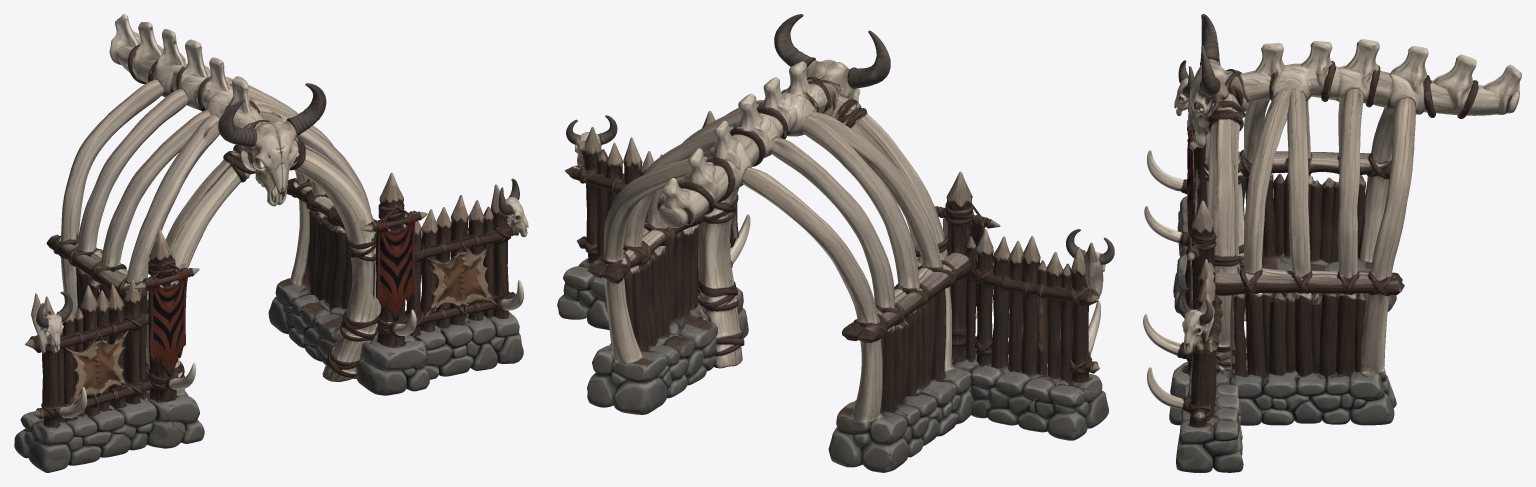
File: TrollGate_300k.glb
3 views of the same model, side by side, from view 1: azimuth 30°, elevation 25°; view 2: azimuth 150°, elevation 25°; view 3: azimuth 270°, elevation 25° (orthographic). The views are drawn at different scales.
Parts seen in each view (by area): view 1: Mesh_0; view 2: Mesh_0; view 3: Mesh_0.
Boxes of the visible parts, bbox=[...] form: Mesh_0: bbox=[14, 14, 528, 472]; Mesh_0: bbox=[557, 14, 1114, 472]; Mesh_0: bbox=[1143, 14, 1521, 472].
Size of the model in its own units: 1.9 by 1.17 by 1.23.
1 material, 1 textured.
